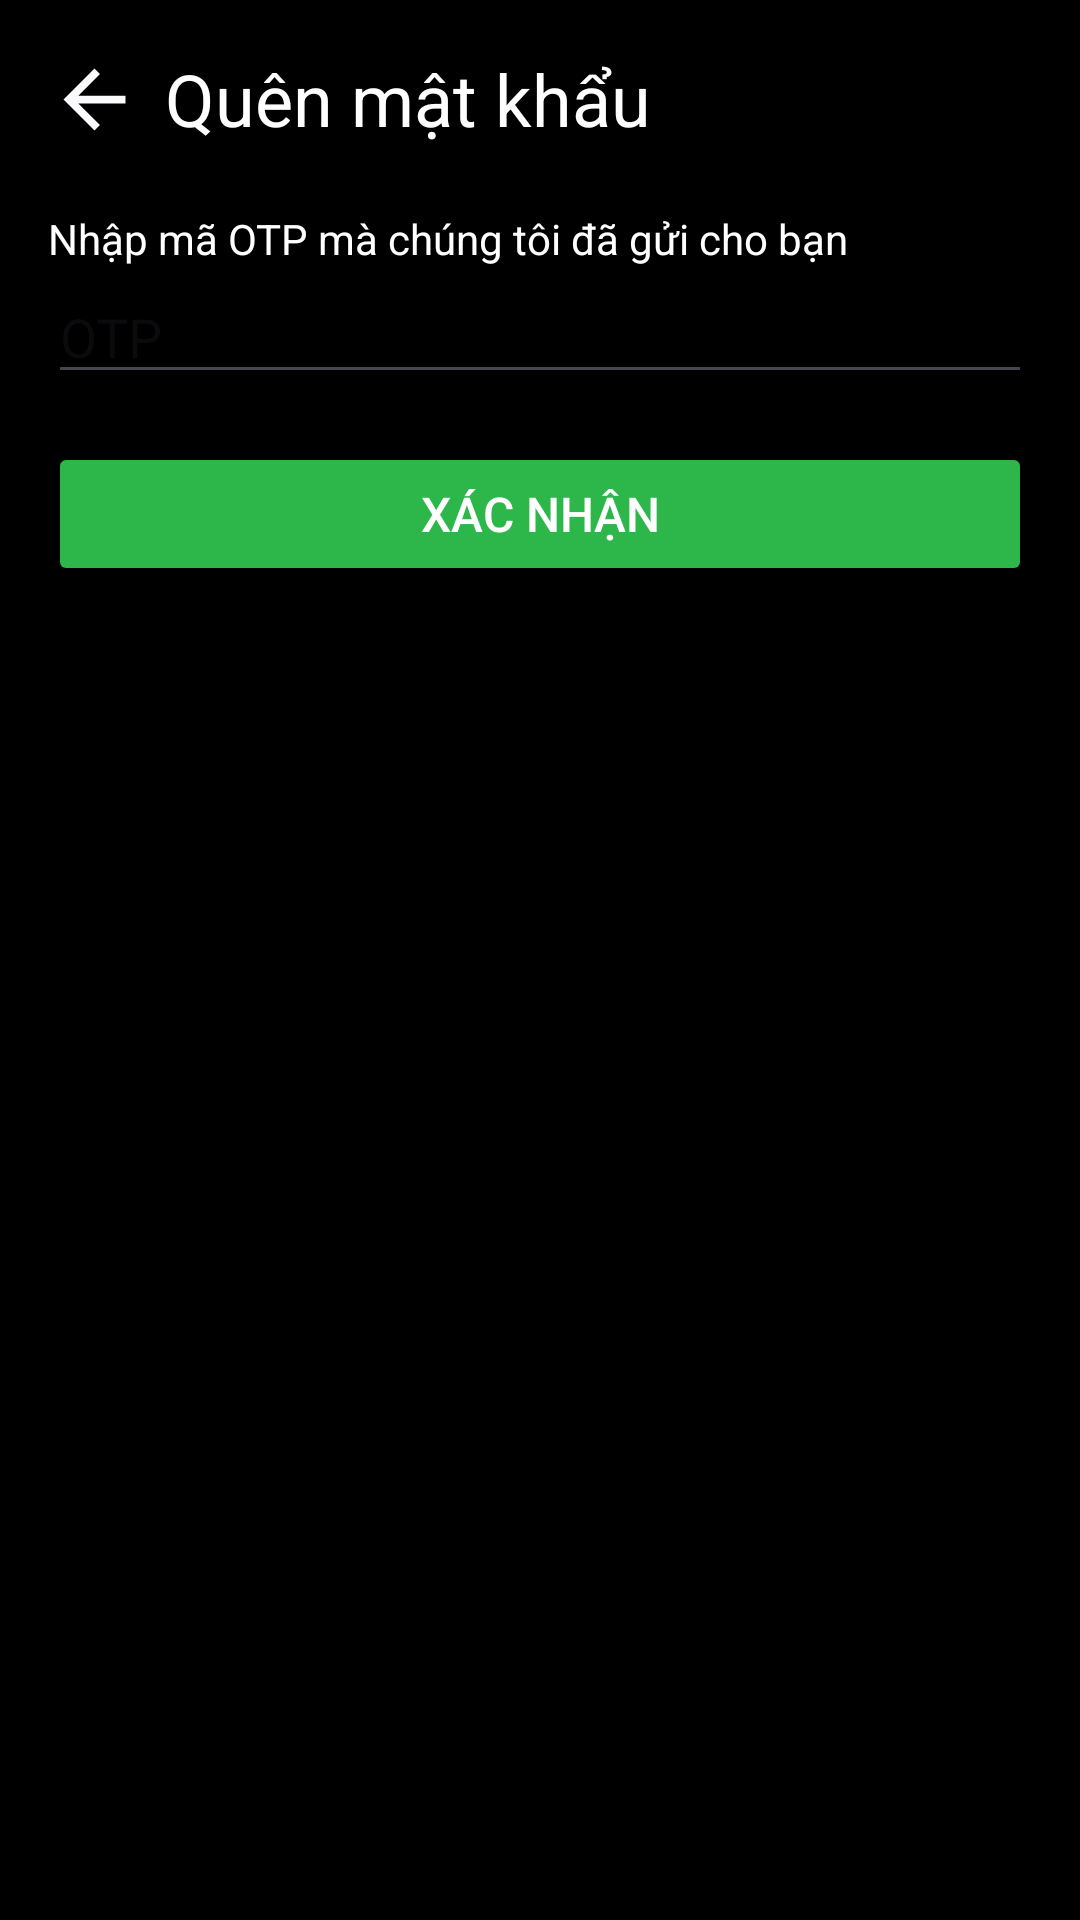

Named icons in this screenshot (1080x1920) and their bounding boxes, (x1,y1,x2,y2):
Back: (63,68,126,131)
